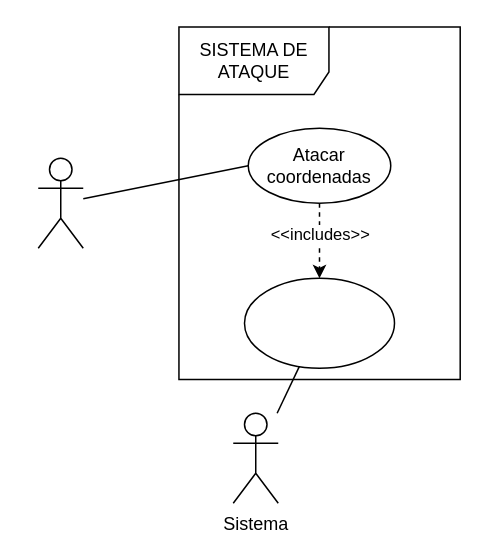
This 488x560 diagram has some shape labels left out. Here are the shapes that lost their labels. From the top down, the centre of each, then its label:
At [60,202]: "Kremlin (usuario)".
At [318,322]: "Validar ingreso (Login)".
